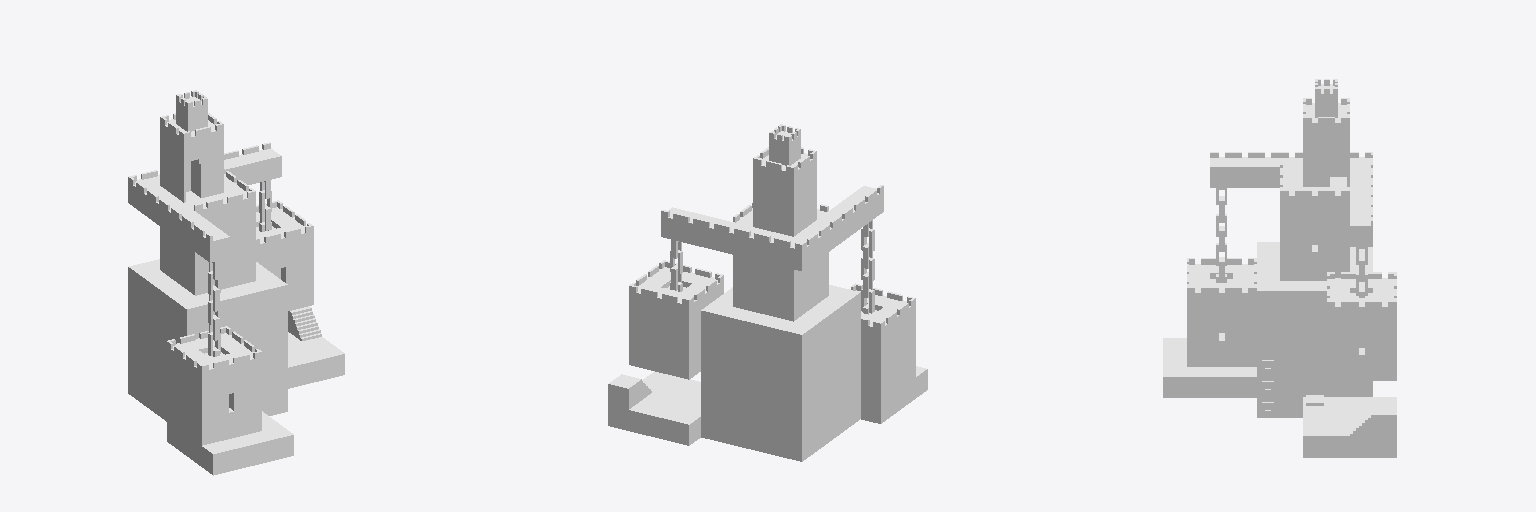
File: castle_out.obj
3 renders of one model, left to right at view 1: azimuth 30°, elevation 25°; view 2: azimuth 150°, elevation 25°; view 3: azimuth 270°, elevation 25°, orthographic.
Parts seen in each view (by area): view 1: ObjObject; view 2: ObjObject; view 3: ObjObject.
Part boxes in pixels (left/top/right/bottom): ObjObject: left=128, top=90, right=344, bottom=475; ObjObject: left=608, top=124, right=927, bottom=461; ObjObject: left=1163, top=79, right=1396, bottom=457.
Bounding box in the file's own units: 8 × 11.5 × 8.